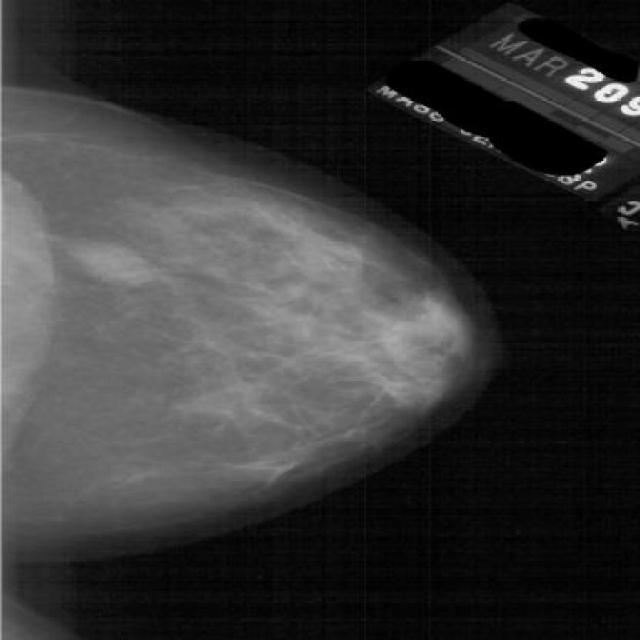tumor: (178, 176, 472, 479)
